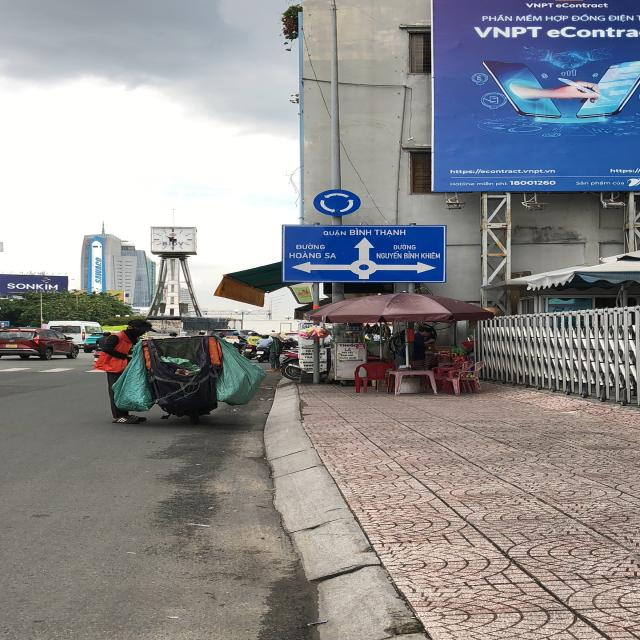Bien bao noi giao nhau chay theo vong xuyen: (309, 186, 369, 218)
